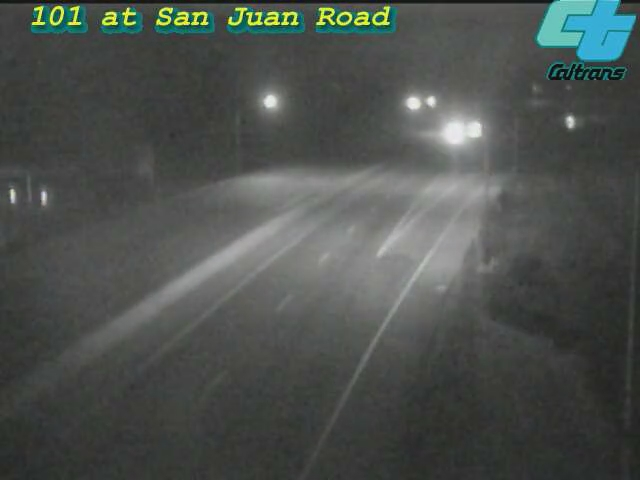vehicle: (546, 96, 596, 146), (429, 106, 479, 156), (447, 104, 497, 154)
